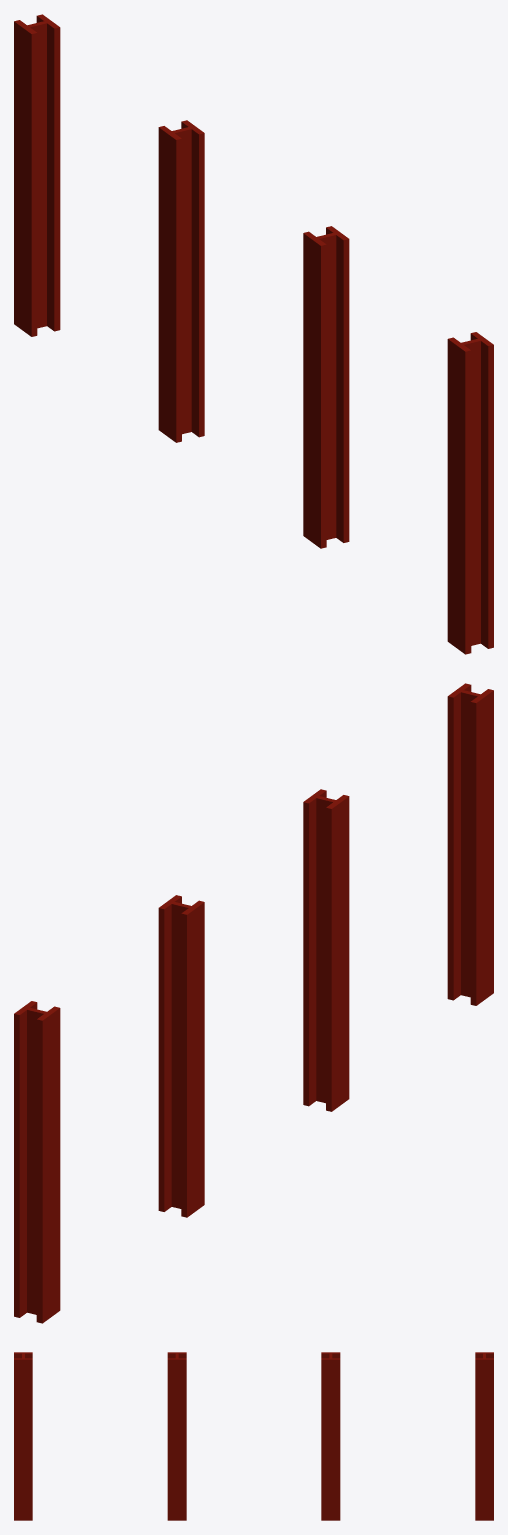
Rendered from I-beam_016.gltf.
3 views of the same model, one above another, from view 1: azimuth 30°, elevation 25°; view 2: azimuth 150°, elevation 25°; view 3: azimuth 270°, elevation 25° (orthographic). The views are drawn at different scales.
Parts seen in each view (by area): view 1: I-beam.016; view 2: I-beam.016; view 3: I-beam.016.
Boxes of the visible parts, x1,y1,x2,y2 form: I-beam.016: (14,14,493,654); I-beam.016: (14,683,493,1323); I-beam.016: (14,1352,493,1520).
Size of the model in its own units: 0.6883 by 6.98 by 18.85.
